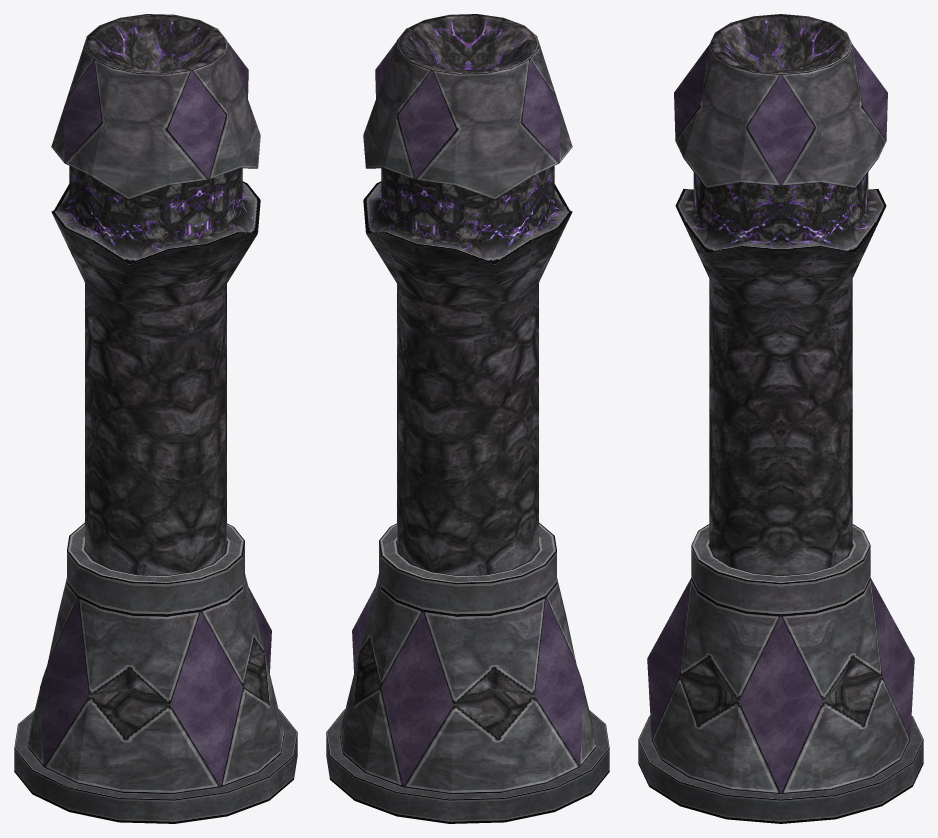
Rendered from Dark Gem Tower.fbx.
3 views of the same model, side by side, from view 1: azimuth 30°, elevation 25°; view 2: azimuth 150°, elevation 25°; view 3: azimuth 270°, elevation 25° (orthographic).
Parts seen in each view (by area): view 1: polySurface112; view 2: polySurface112; view 3: polySurface112.
Boxes of the visible parts, left/top/right/bottom form: polySurface112: left=14, top=14, right=297, bottom=823; polySurface112: left=326, top=14, right=609, bottom=823; polySurface112: left=638, top=14, right=923, bottom=823.
Size of the model in its own units: 72 by 200 by 72.
